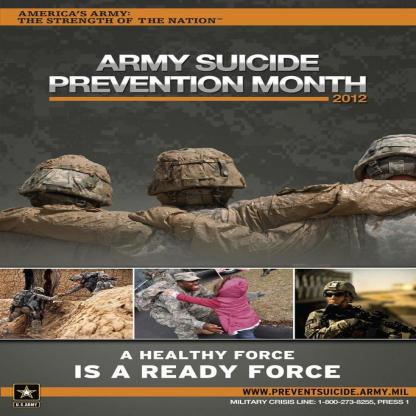Helmet: (359, 140, 412, 183), (324, 281, 359, 306)
